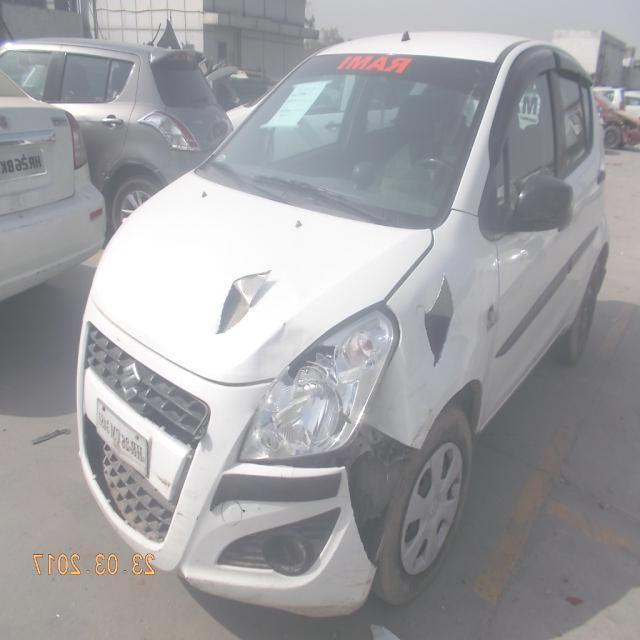minor: (215, 270, 278, 337)
moderate: (239, 310, 397, 461)
